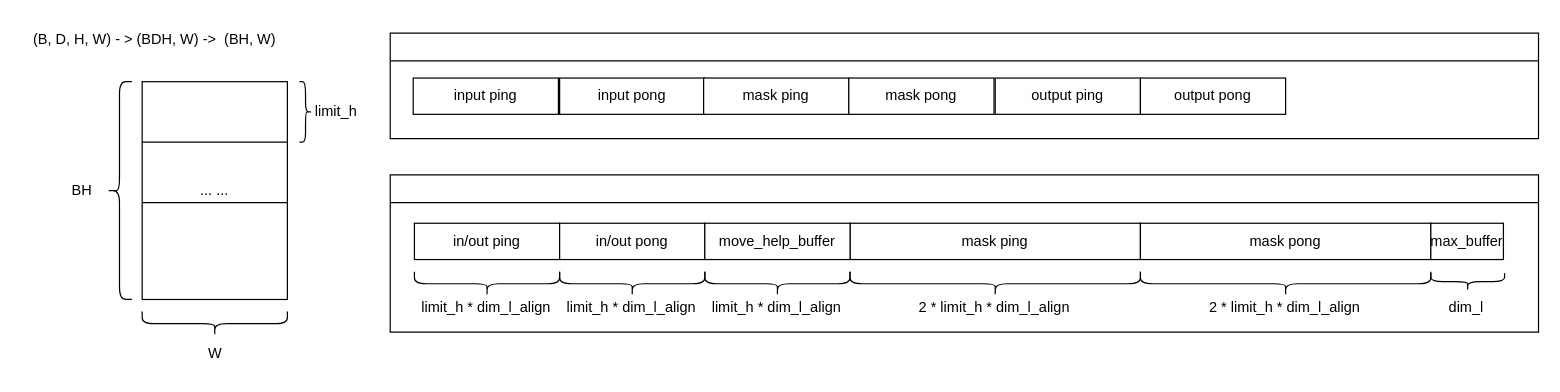
This 1560x392 diagram has some shape labels left out. Here are the shapes that lost their labels. From the top down, the box of each, then its label:
(389, 32, 1539, 139): SRAM
(389, 174, 1539, 332): NRAM
